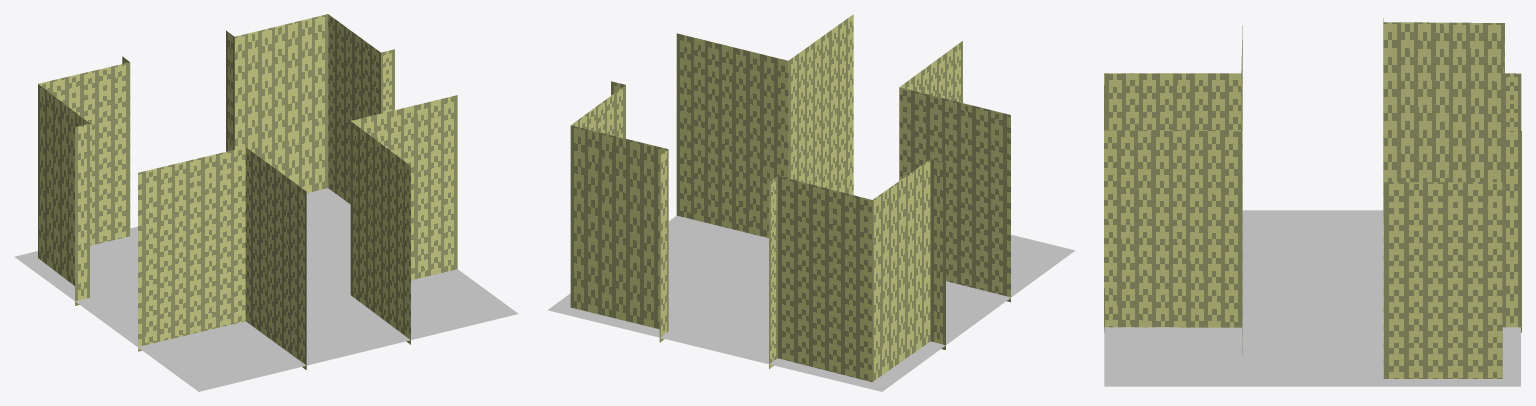
Rendered from room4.obj.
3 renders of one model, left to right at view 1: azimuth 30°, elevation 25°; view 2: azimuth 150°, elevation 25°; view 3: azimuth 270°, elevation 25°, orthographic. The views are drawn at different scales.
Parts seen in each view (by area): view 1: Cube.003_Cube.007, Plane, Cube_Cube.001, Cube.002_Cube.005, Cube.001_Cube.006; view 2: Cube.001_Cube.006, Cube.002_Cube.005, Plane, Cube_Cube.001, Cube.003_Cube.007; view 3: Plane, Cube.002_Cube.005, Cube_Cube.001, Cube.001_Cube.006, Cube.003_Cube.007.
Part boxes in pixels (x1,y1,x2,y2): Cube.003_Cube.007: (138,147,306,369); Plane: (14,188,518,391); Cube_Cube.001: (226,14,394,204); Cube.002_Cube.005: (350,95,457,344); Cube.001_Cube.006: (38,56,130,305); Cube.001_Cube.006: (769,159,945,382); Cube.002_Cube.005: (676,14,853,238); Plane: (548,215,1075,391); Cube_Cube.001: (570,81,668,342); Cube.003_Cube.007: (899,41,1010,302); Plane: (1104,210,1520,386); Cube.002_Cube.005: (1104,130,1242,354); Cube_Cube.001: (1383,131,1521,378); Cube.001_Cube.006: (1383,18,1521,218); Cube.003_Cube.007: (1104,25,1242,131).
Bounding box in the file's own units: 12 × 6.41 × 12.03.
Materials: 5 (4 with a texture image).
